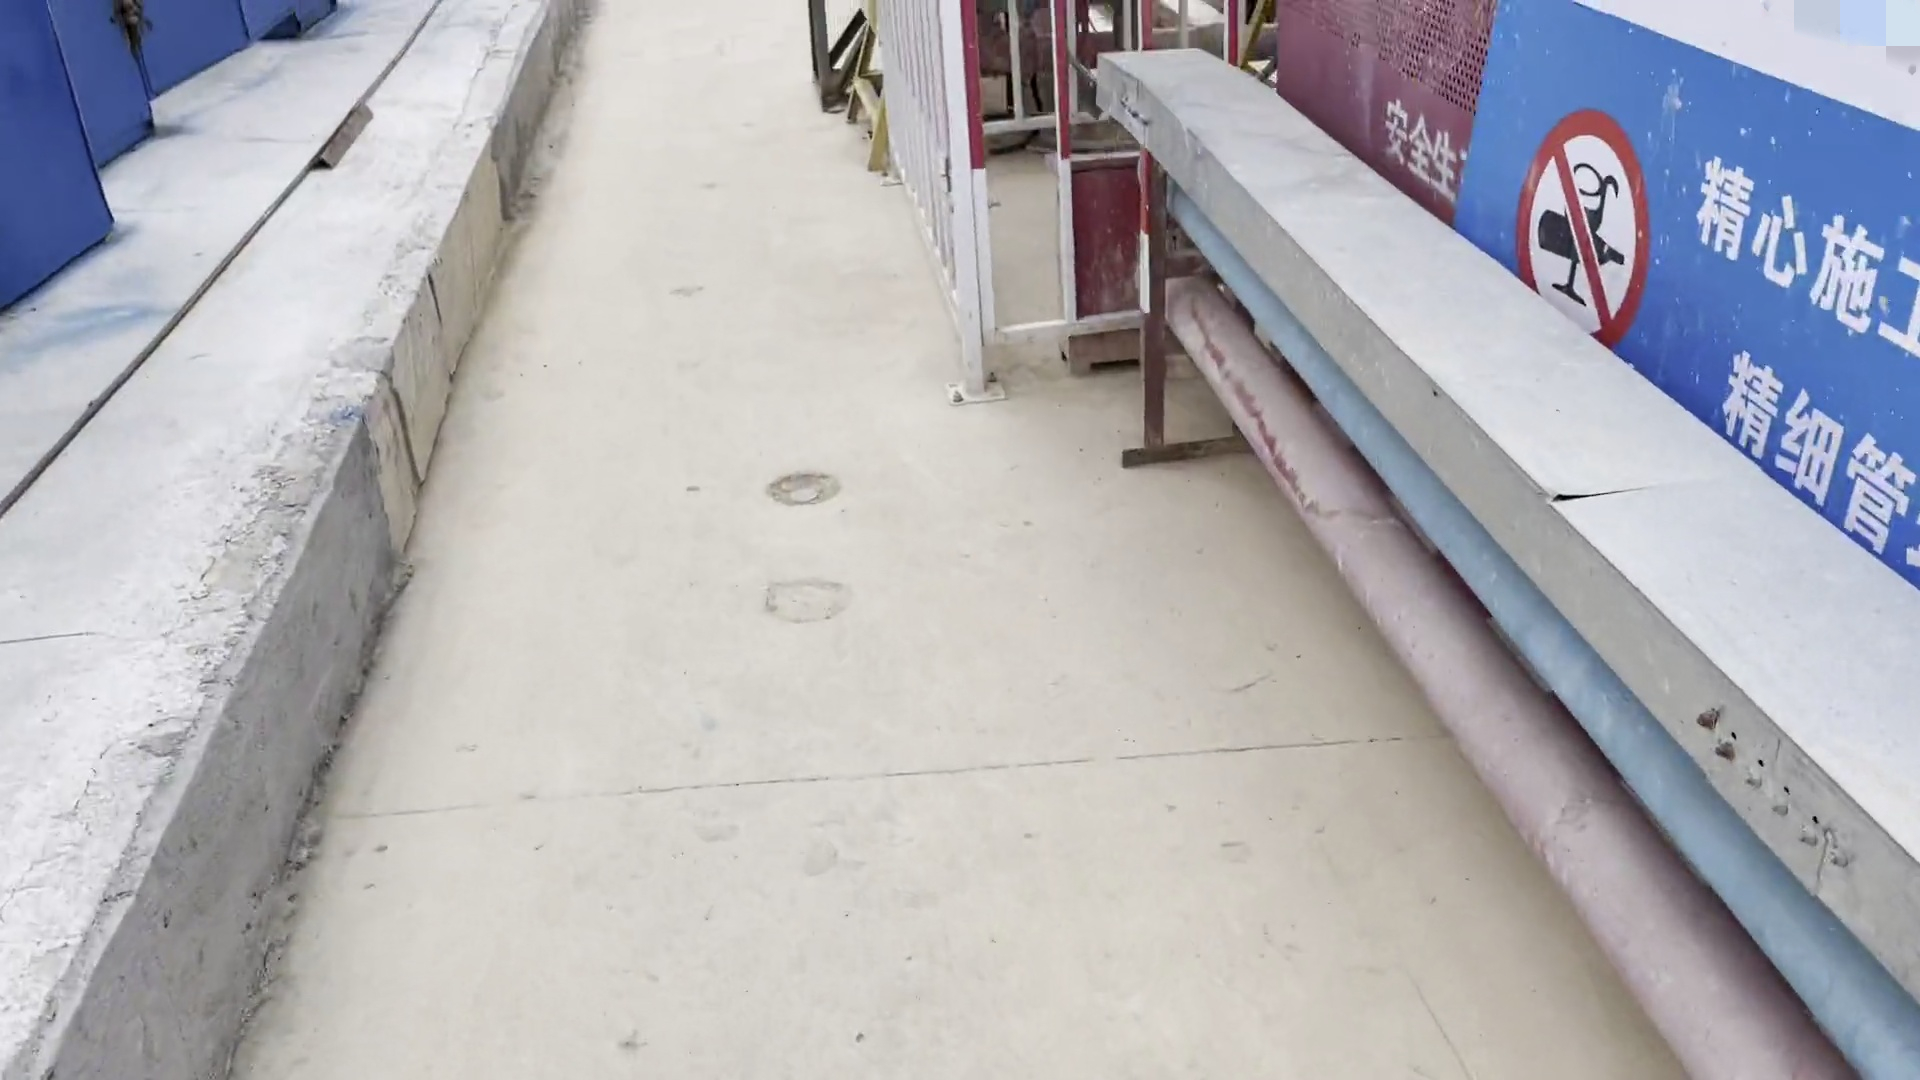fence: (1265, 3, 1920, 600)
slogan: (1447, 5, 1920, 596)
